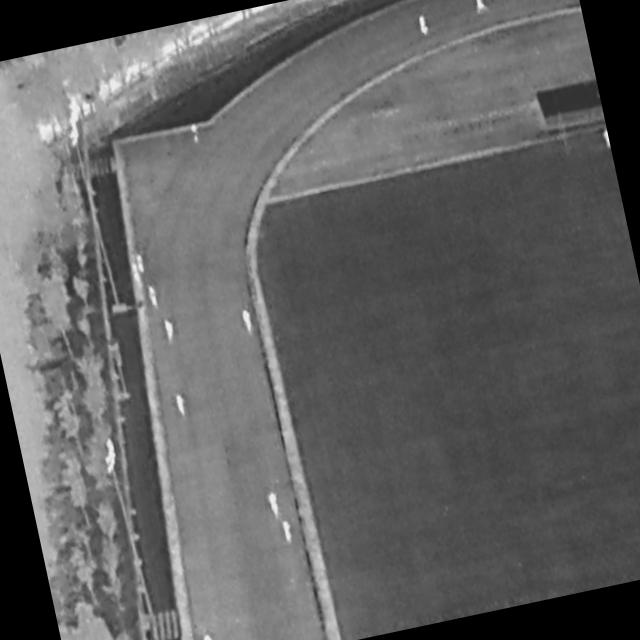person: (267, 490, 284, 521), (240, 307, 256, 337), (164, 317, 179, 346), (174, 393, 189, 420), (282, 520, 296, 545), (147, 284, 160, 310), (417, 12, 430, 36), (190, 122, 201, 144), (135, 252, 146, 274), (473, 1, 489, 16), (131, 261, 141, 283), (603, 128, 610, 148), (202, 631, 217, 640)
